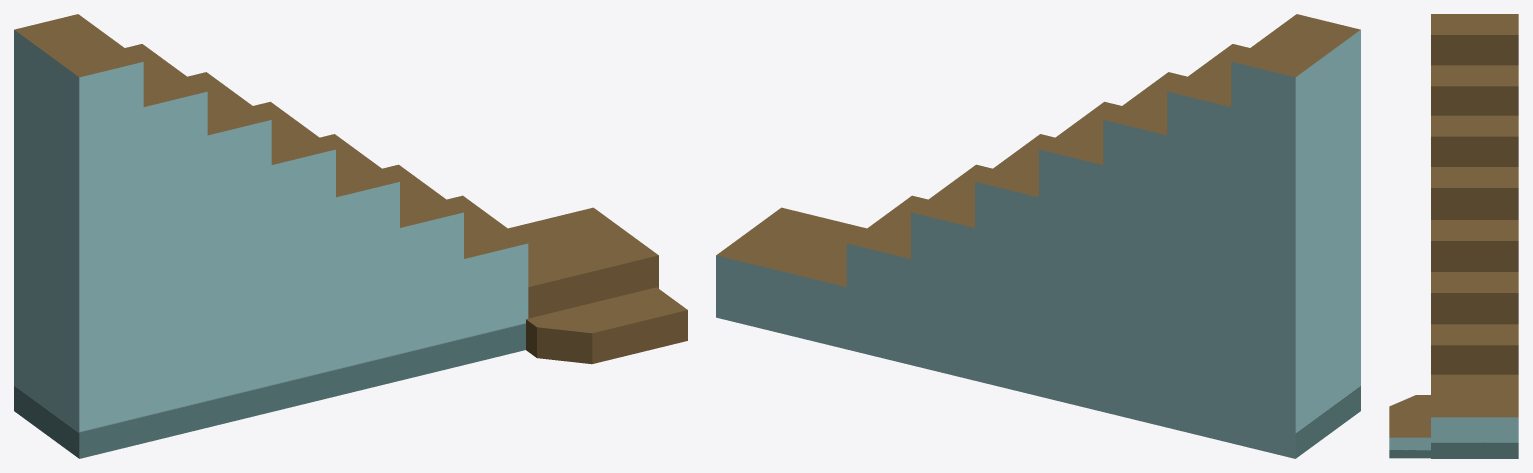
File: escalera.obj
3 views of the same model, side by side, from view 1: azimuth 30°, elevation 25°; view 2: azimuth 150°, elevation 25°; view 3: azimuth 270°, elevation 25° (orthographic). The views are drawn at different scales.
Parts seen in each view (by area): view 1: pasted__pCube11 group11; view 2: pasted__pCube11 group11; view 3: pasted__pCube11 group11.
Part boxes in pixels (left/top/right/bottom): pasted__pCube11 group11: left=14, top=14, right=687, bottom=458; pasted__pCube11 group11: left=716, top=14, right=1360, bottom=458; pasted__pCube11 group11: left=1389, top=14, right=1518, bottom=458.
Bounding box in the file's own units: 3.9 × 2.45 × 1.12.
Materials: 2 (2 with a texture image).
